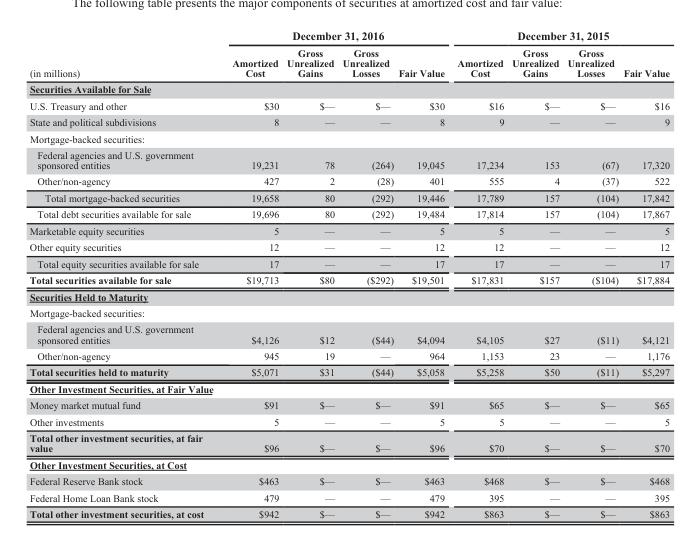table: (28, 28, 669, 519)
table column: (28, 28, 217, 519), (217, 28, 282, 519), (337, 28, 395, 519), (562, 28, 620, 519), (450, 28, 507, 519), (282, 28, 337, 519), (395, 28, 450, 519), (507, 28, 562, 519), (620, 28, 669, 519)
table column header: (28, 28, 669, 80)
table projected row header: (28, 80, 669, 97), (28, 129, 669, 146), (28, 287, 669, 304), (28, 304, 669, 320), (28, 380, 669, 396), (28, 456, 669, 472)
table row: (28, 43, 669, 80), (28, 320, 669, 347), (28, 429, 669, 456), (28, 146, 669, 172), (28, 80, 669, 97), (28, 129, 669, 146), (28, 172, 669, 189), (28, 205, 669, 222), (28, 238, 669, 255), (28, 287, 669, 304), (28, 363, 669, 380), (28, 396, 669, 413), (28, 488, 669, 505), (28, 97, 669, 113), (28, 113, 669, 129), (28, 189, 669, 205), (28, 222, 669, 238), (28, 255, 669, 271), (28, 271, 669, 287), (28, 304, 669, 320), (28, 347, 669, 363), (28, 380, 669, 396), (28, 413, 669, 429), (28, 456, 669, 472), (28, 472, 669, 488), (28, 28, 669, 43), (28, 505, 669, 519)
table spanning cell: (28, 28, 217, 80), (217, 28, 450, 43), (450, 28, 669, 43)
